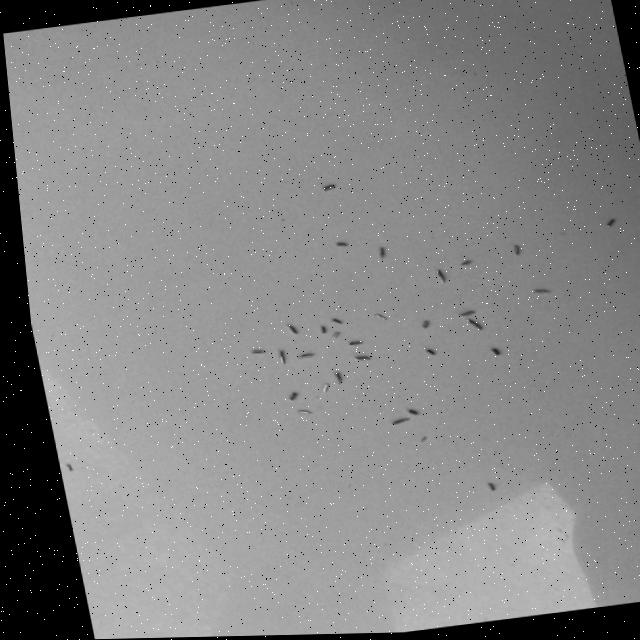Wereng: (386, 413, 413, 427), (462, 315, 485, 331), (522, 284, 557, 294), (412, 430, 433, 446), (401, 407, 423, 419), (275, 348, 289, 366), (351, 352, 371, 364), (293, 351, 317, 361), (280, 322, 300, 334), (601, 215, 617, 229), (371, 312, 389, 324), (485, 344, 503, 356), (320, 180, 338, 192), (344, 339, 365, 349), (433, 267, 447, 282), (376, 244, 388, 261), (315, 380, 330, 393), (245, 346, 269, 354), (419, 344, 436, 355), (63, 459, 76, 473), (486, 479, 498, 494), (457, 255, 473, 266), (330, 315, 343, 328), (292, 407, 315, 414), (455, 311, 479, 317), (286, 390, 299, 401), (331, 240, 351, 247), (416, 317, 428, 328), (316, 324, 329, 334), (509, 242, 519, 255), (325, 330, 340, 337), (334, 370, 341, 384)
